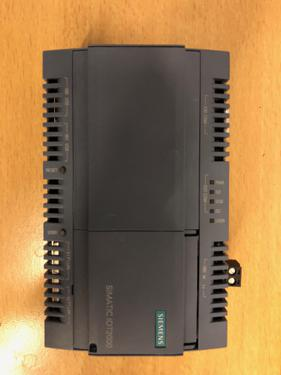device: (42, 44, 241, 356)
